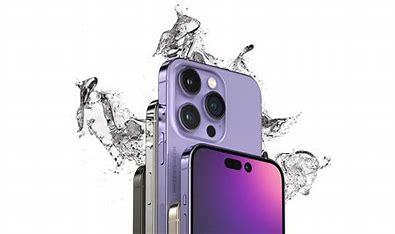-iphone13: (104, 44, 305, 234)
